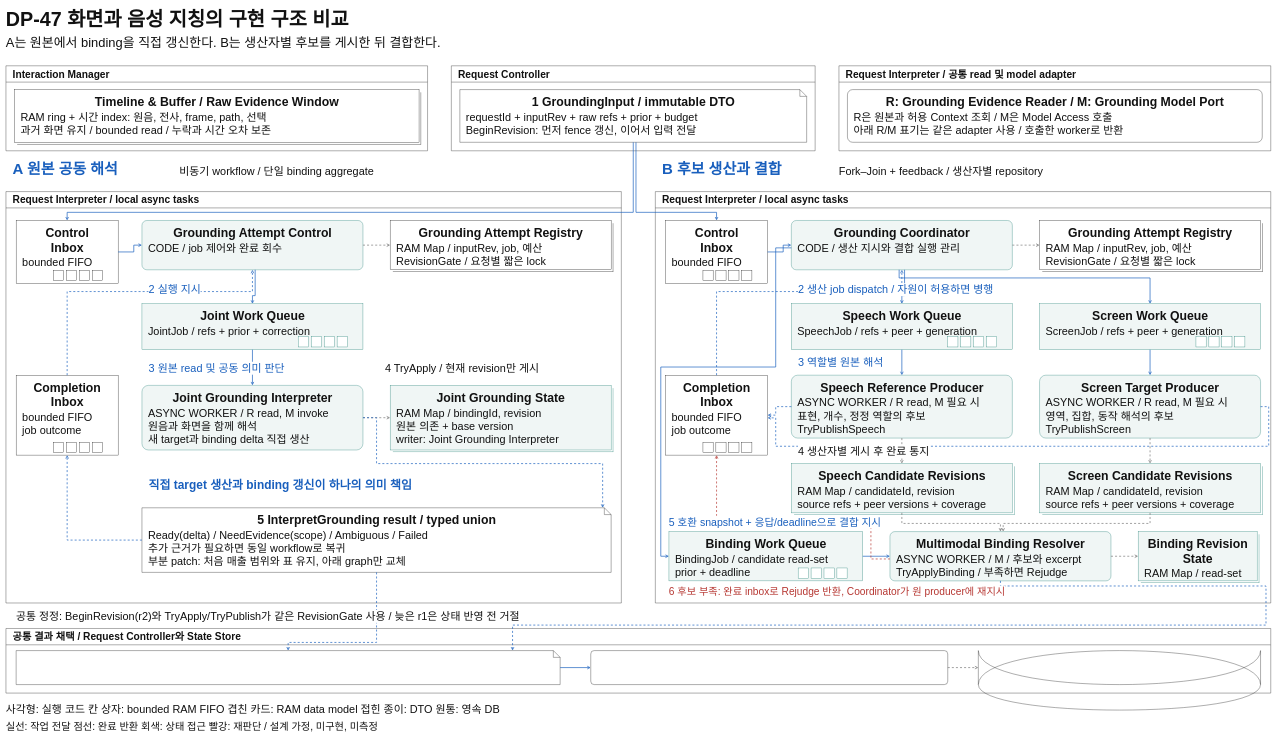
Image size: 1287x738. Some labels were removed from this diagram. Each missing label, with the centre of its shape:
"Adoption Control: 최신 입력, 사용권, base 검사" belongs at (x=769, y=667).
"GroundingProposal: binding delta + 근거 + revision" belongs at (x=288, y=667).
"State Store / 채택 결과 영속 DB" belongs at (x=1119, y=667).
